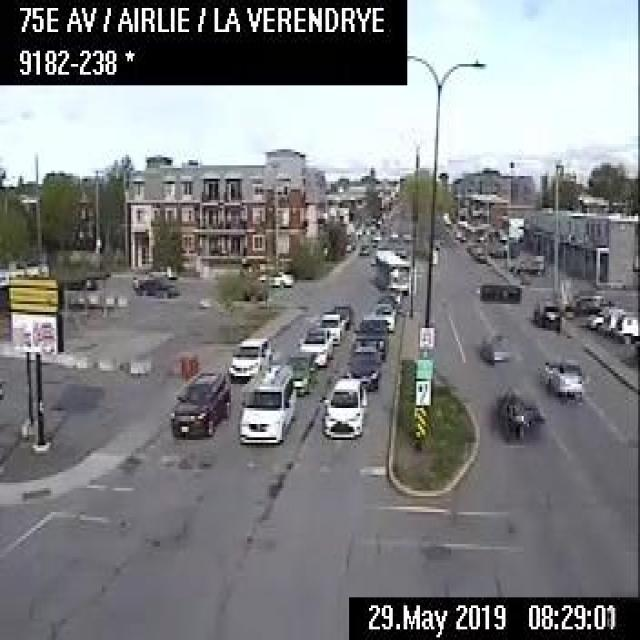bus: (370, 248, 408, 294)
construction: (177, 352, 189, 379), (187, 352, 195, 372)
vehicle: (236, 362, 296, 444), (167, 366, 231, 439), (318, 373, 368, 440), (497, 388, 535, 438), (229, 335, 270, 380), (540, 358, 585, 397), (131, 264, 178, 296), (296, 325, 332, 366), (345, 343, 377, 388), (354, 314, 388, 356), (282, 353, 313, 393), (476, 328, 511, 363), (529, 296, 562, 328), (586, 304, 622, 330), (317, 310, 343, 344), (610, 310, 636, 342), (508, 254, 543, 276), (258, 266, 292, 288), (569, 289, 601, 310), (371, 301, 393, 328), (330, 301, 350, 326), (471, 246, 487, 262), (356, 240, 369, 256), (368, 234, 379, 247)
